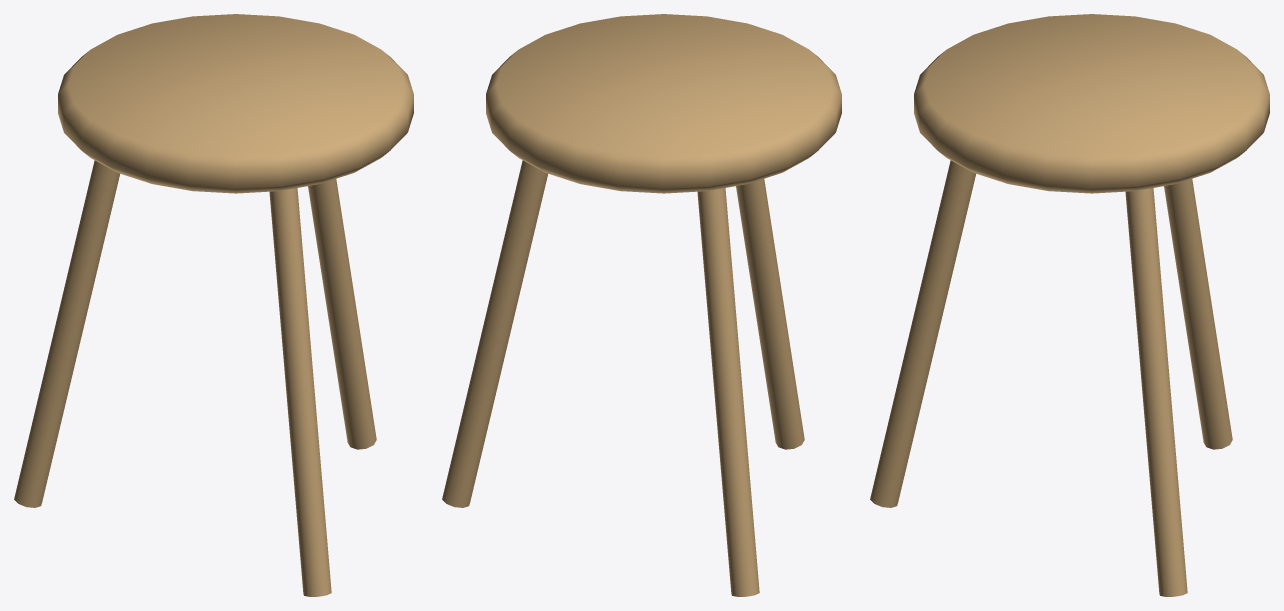
The model's file is i_stool_0.glb.
The picture shows the model from 3 angles, left to right: view 1: azimuth 30°, elevation 25°; view 2: azimuth 150°, elevation 25°; view 3: azimuth 270°, elevation 25°; orthographic projection.
Visible parts, largest first — view 1: o.003, o.002, o.001, o; view 2: o.003, o.001, o, o.002; view 3: o.003, o, o.002, o.001.
Boxes of the visible parts, x1,y1,x2,y2 form: o.003: [58, 14, 413, 193]; o.002: [269, 188, 331, 596]; o.001: [14, 160, 119, 507]; o: [308, 179, 376, 449]; o.003: [486, 14, 841, 193]; o.001: [697, 188, 759, 596]; o: [442, 160, 547, 507]; o.002: [736, 179, 804, 449]; o.003: [914, 14, 1269, 193]; o: [1125, 188, 1187, 596]; o.002: [870, 160, 975, 507]; o.001: [1164, 179, 1232, 449].
Size of the model in its own units: 0.3707 by 0.4528 by 0.3819.
